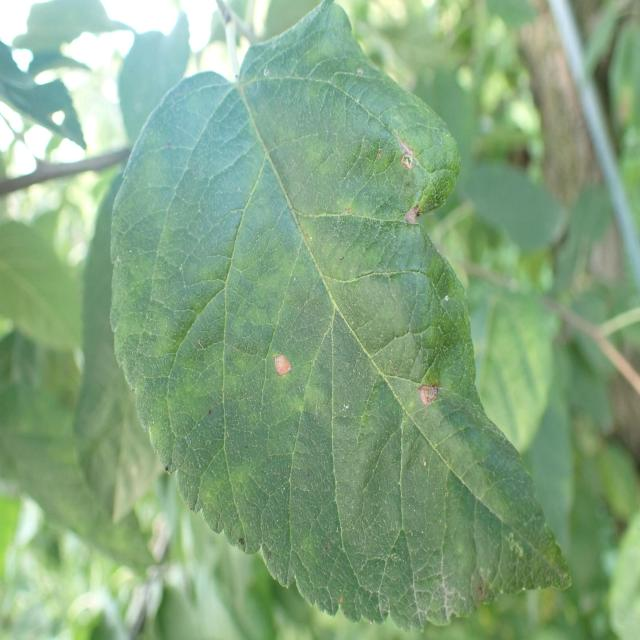frog-eye-leaf-spot: (108, 1, 572, 638)
